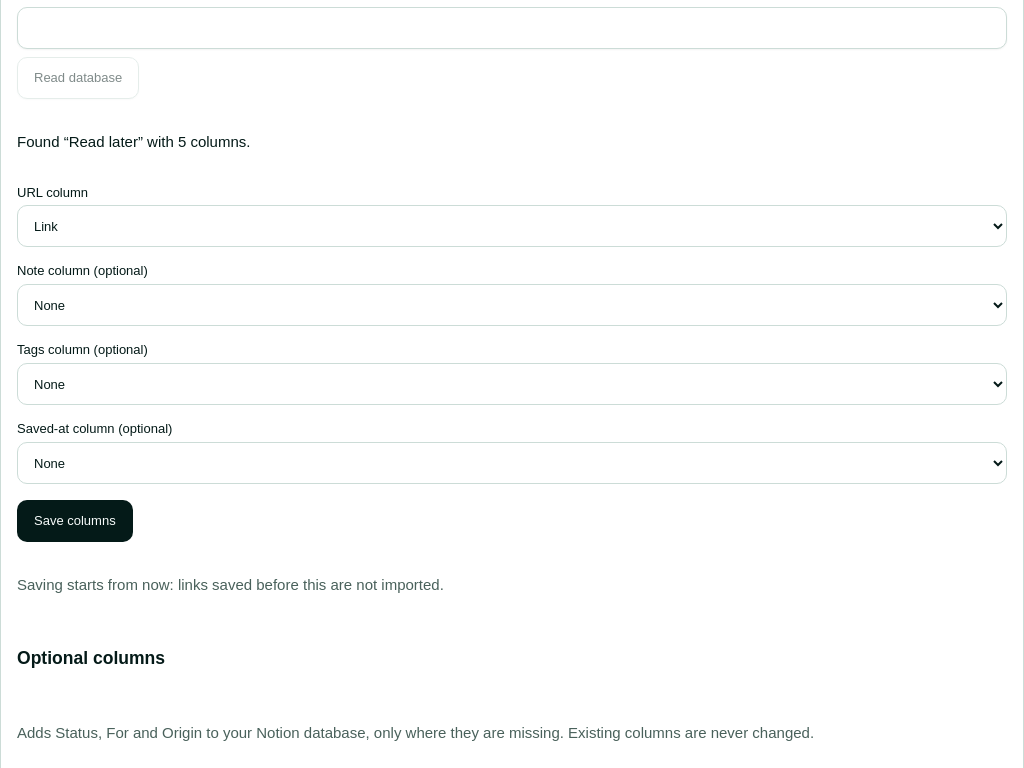
buttons › Save columns posts the picked columns
(page scrolled)
Select "Tags" in the dropdown labelled "Tags column (optional)". click: x=512, y=384
box: [17, 363, 1007, 405]
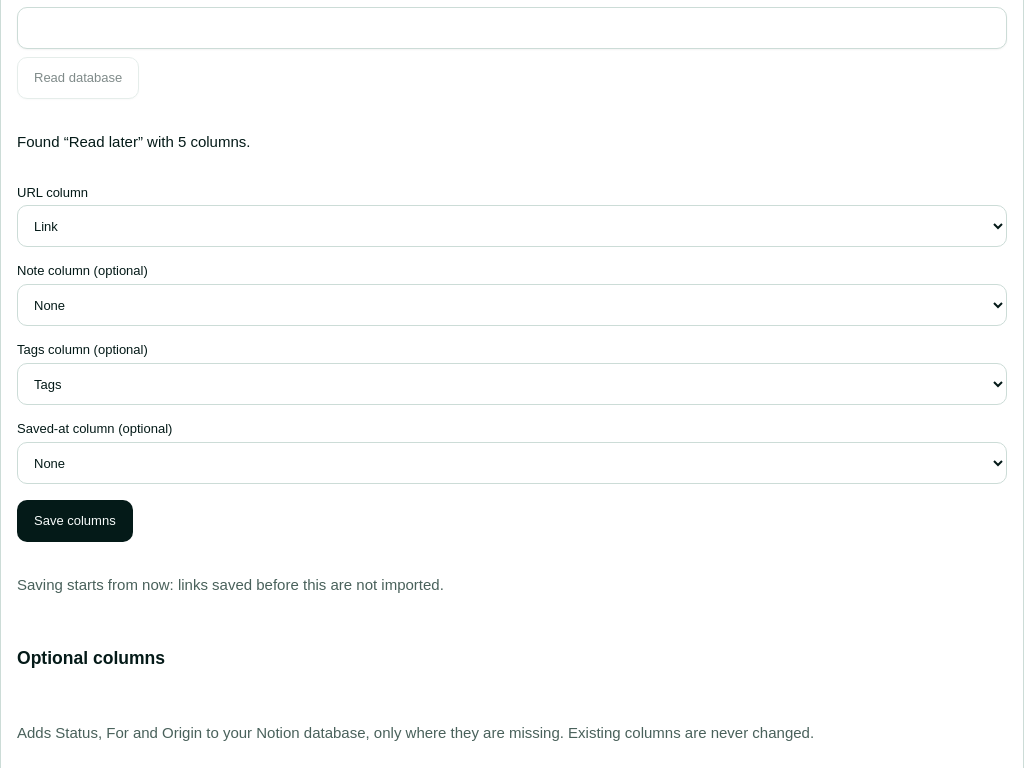
Click the button "Save columns". click: x=75, y=521
box: [17, 500, 133, 542]
(page scrolled)
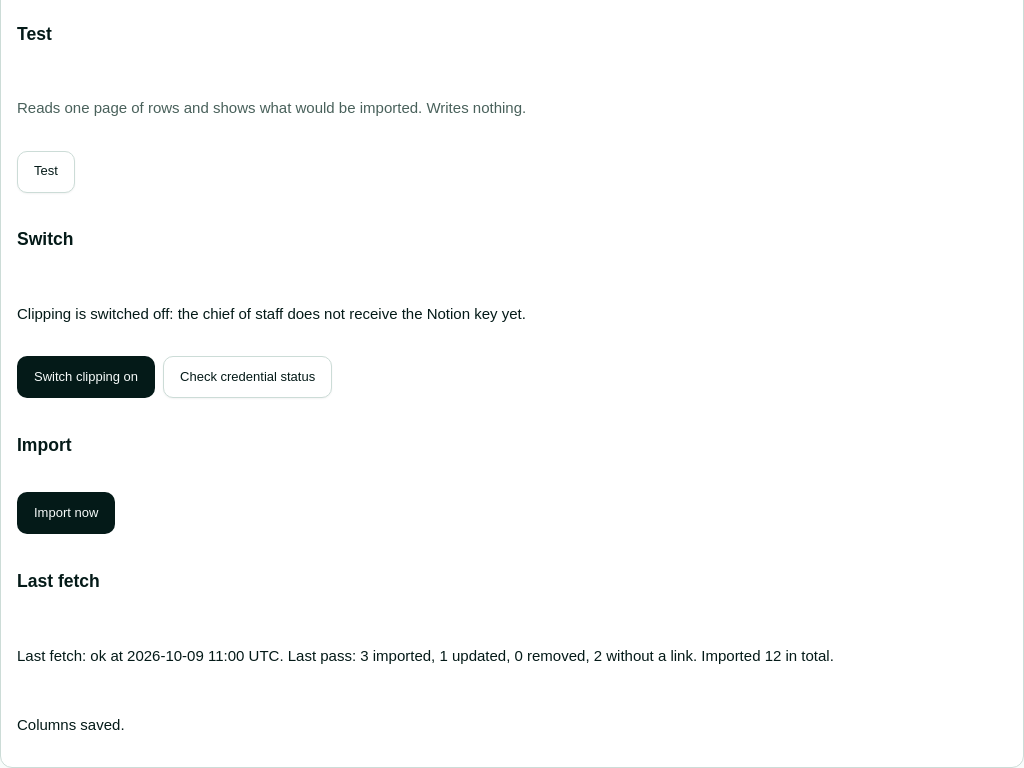
Result: the text "Columns saved." is shown at [17, 716, 125, 733]
